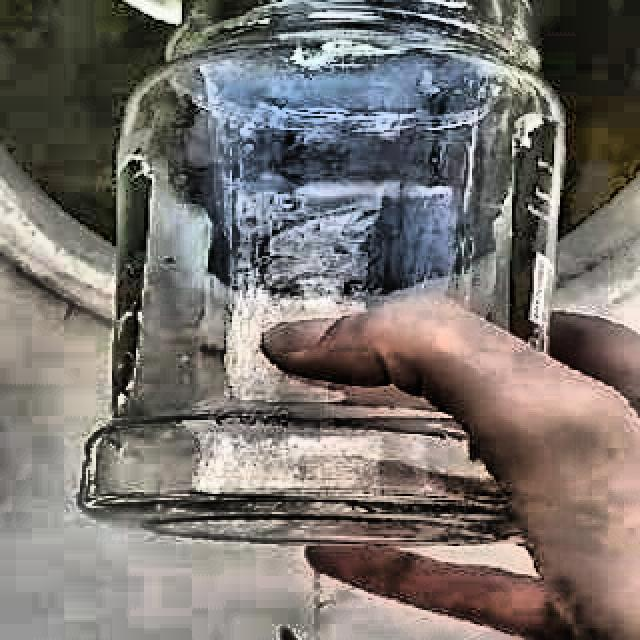glass: (80, 0, 563, 543)
